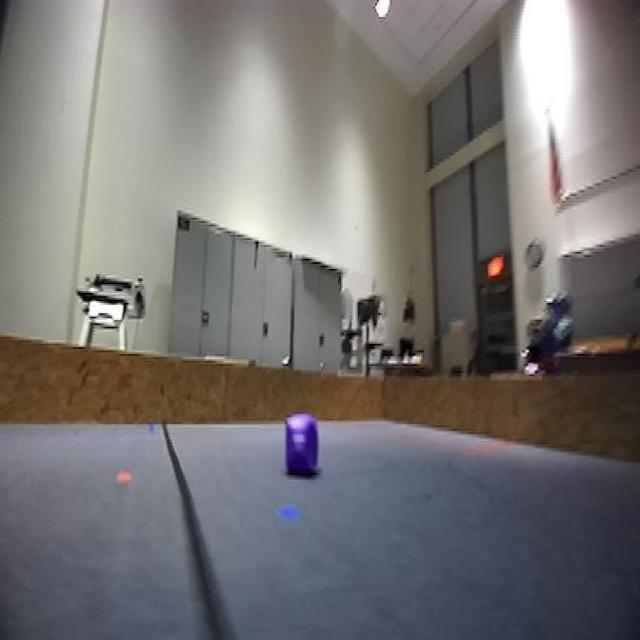frc_cube: (286, 422, 321, 480)
